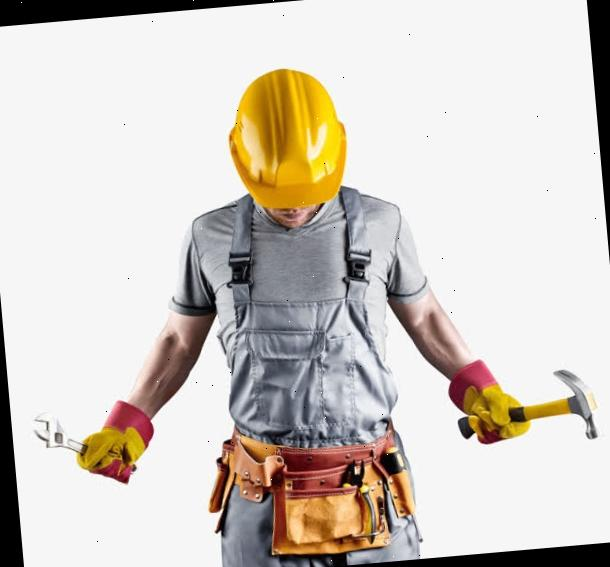helmet: (218, 62, 356, 220)
no_wear: (189, 194, 413, 454)
